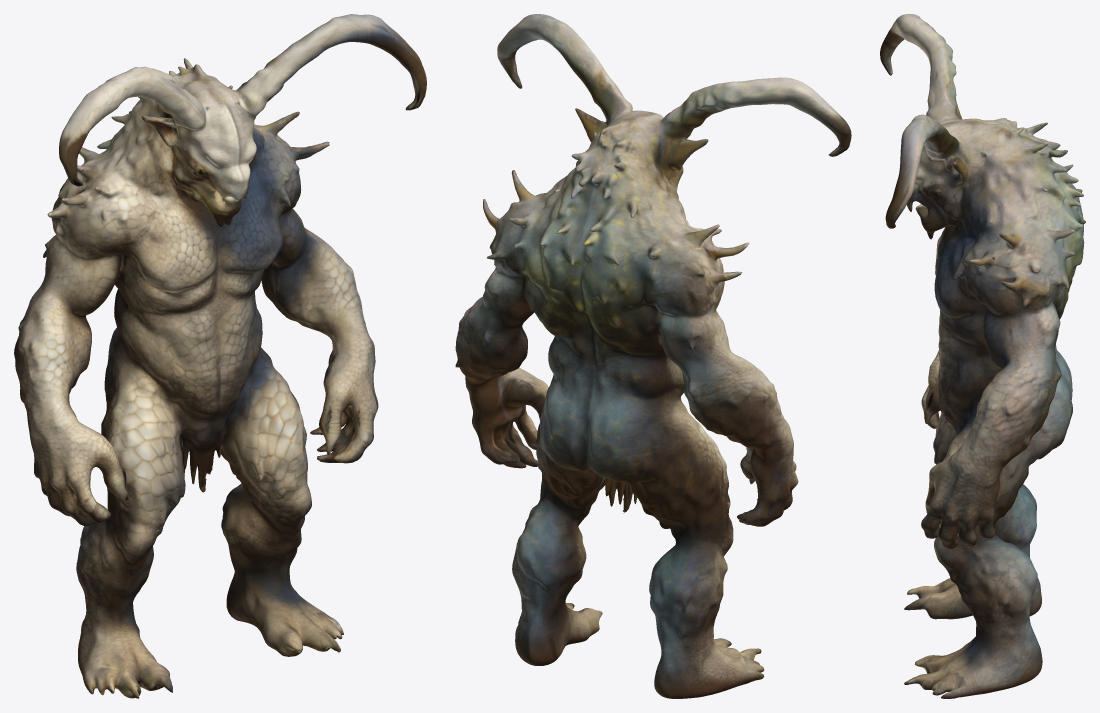
Rendered from Design_a_hyper_realis_0207192951_texture.fbx.
3 views of the same model, side by side, from view 1: azimuth 30°, elevation 25°; view 2: azimuth 150°, elevation 25°; view 3: azimuth 270°, elevation 25° (orthographic). The views are drawn at different scales.
Visible parts, largest first — view 1: Mesh1_Mesh1.137; view 2: Mesh1_Mesh1.137; view 3: Mesh1_Mesh1.137.
Boxes of the visible parts, x1,y1,x2,y2 form: Mesh1_Mesh1.137: (14,14,426,698); Mesh1_Mesh1.137: (455,14,851,698); Mesh1_Mesh1.137: (880,14,1085,698).
Size of the model in its own units: 151 by 250 by 80.32.
Materials: 1 (1 with a texture image).
